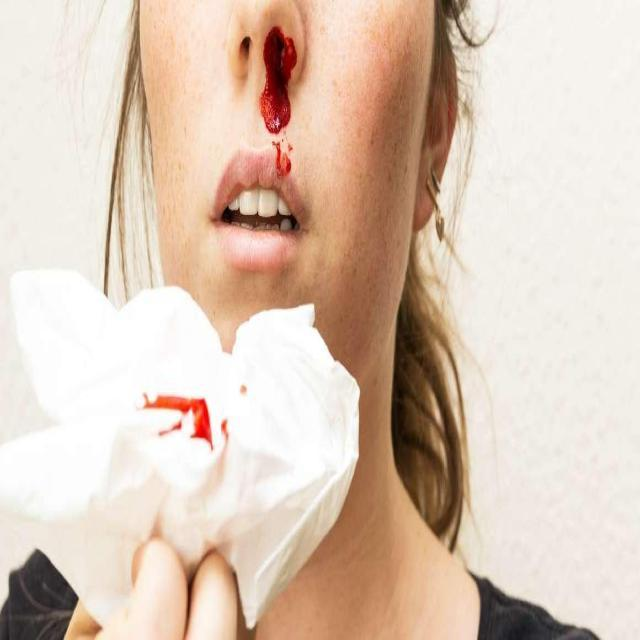flood: (133, 370, 253, 466), (252, 14, 309, 191)
